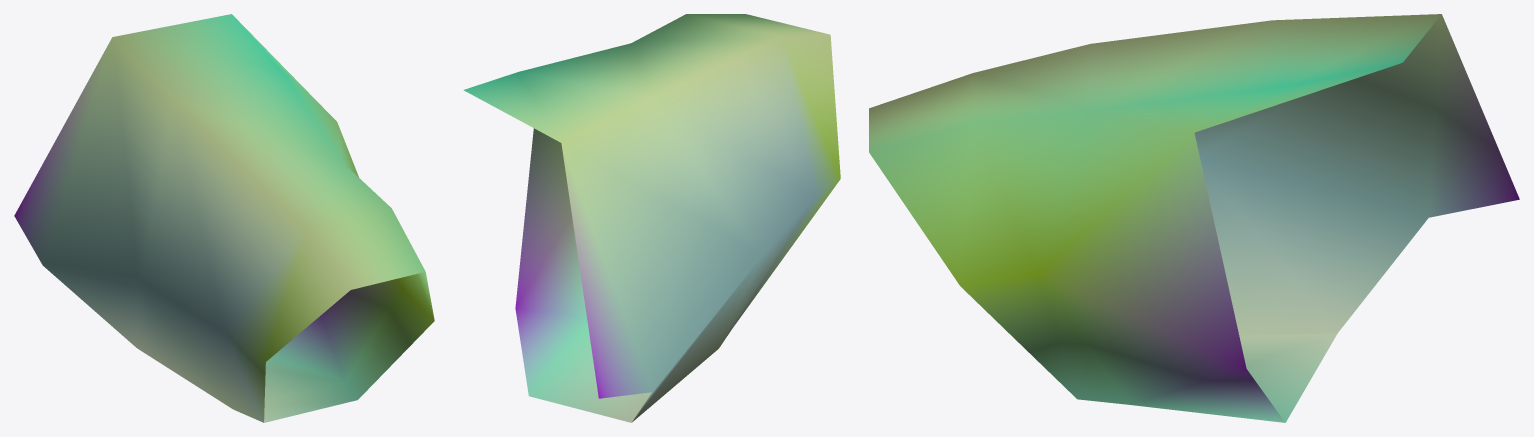
3 renders of one model, left to right at view 1: azimuth 30°, elevation 25°; view 2: azimuth 150°, elevation 25°; view 3: azimuth 270°, elevation 25°, orthographic. The views are drawn at different scales.
Parts seen in each view (by area): view 1: part; view 2: part; view 3: part.
Boxes of the visible parts, box(x1,y1,x2,y2) form: part: box(14, 14, 434, 422); part: box(463, 14, 840, 422); part: box(869, 14, 1519, 422).
Size of the model in its own units: 21 by 31 by 50.
